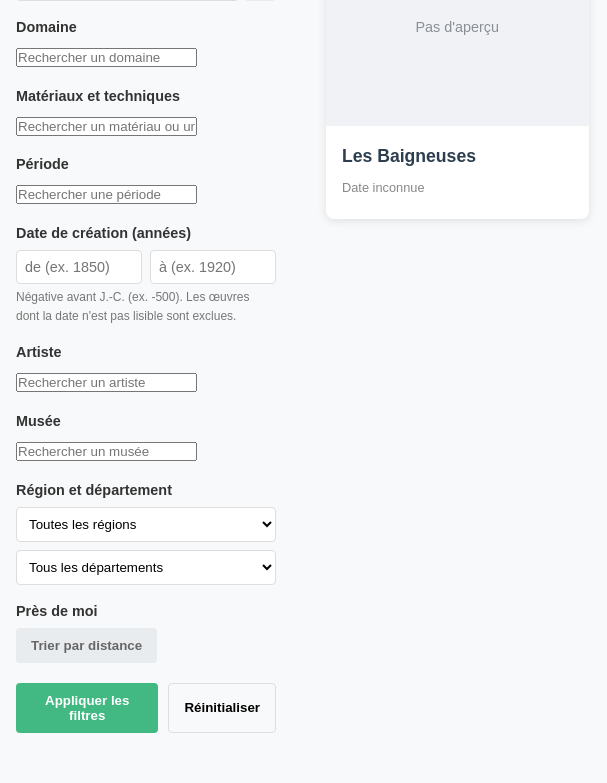
Test case: SearchView : recherche géographique › explique quand le navigateur n'a pas de géolocalisation
(page scrolled)
Click the button with test id "near-me" at (87, 645), box [16,628,157,663]
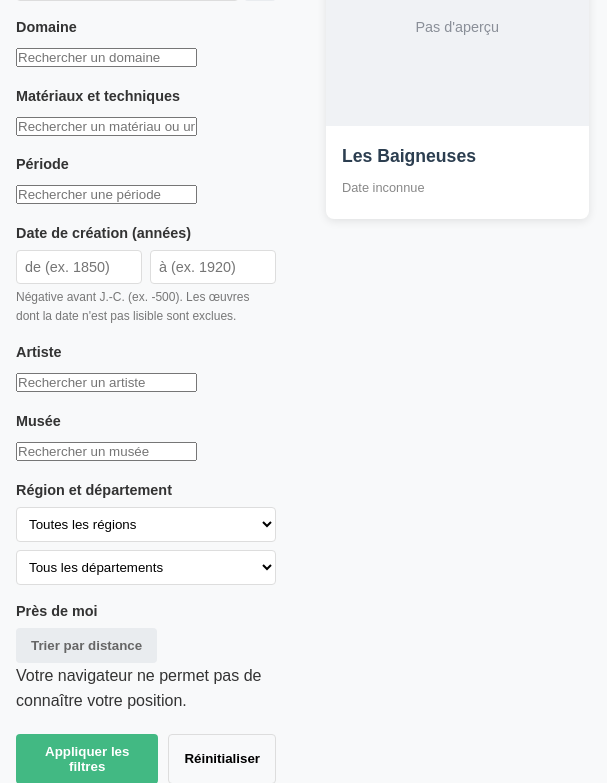
Now the text with test id "position-error" shows "ne permet pas", box [16,667,262,709]
